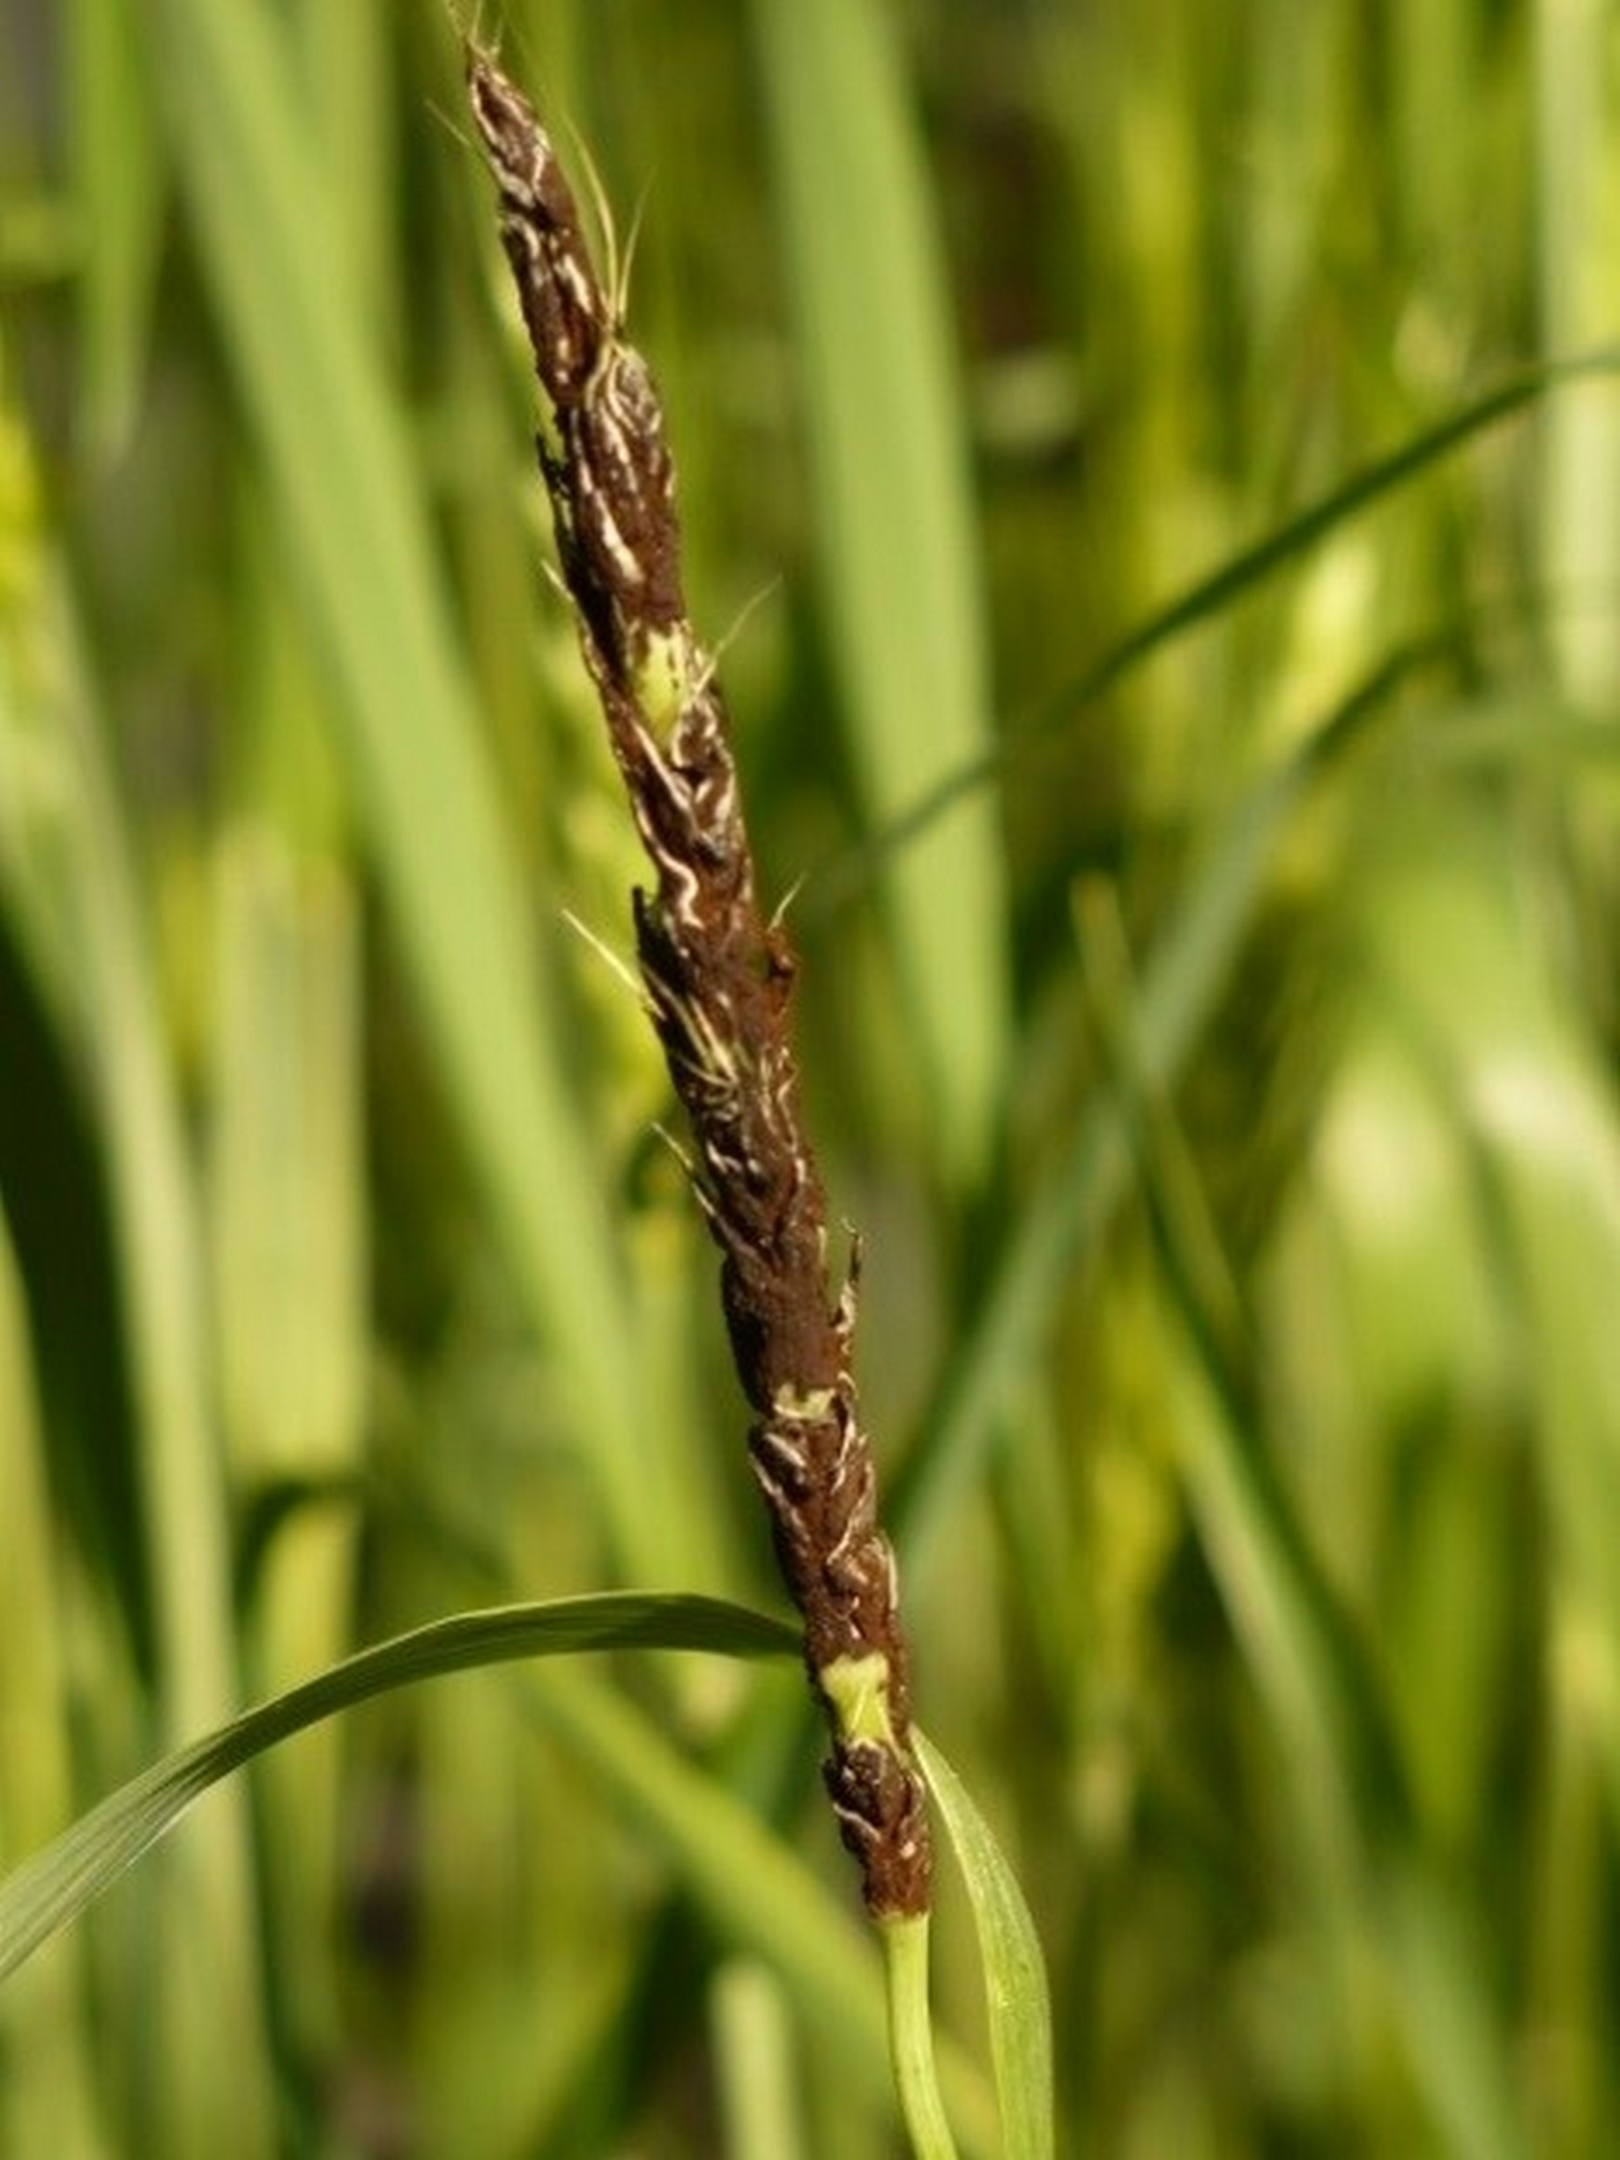Wheat Loose Smut: (395, 61, 994, 1852)
